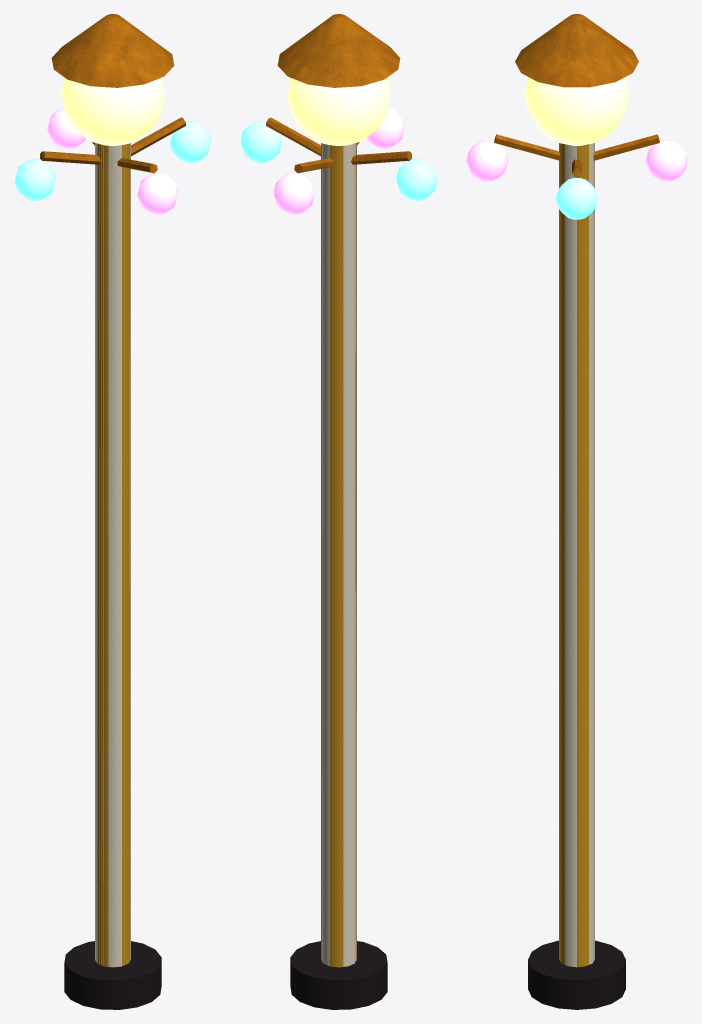
Rendered from fair-pole.glb.
The picture shows the model from 3 angles, left to right: view 1: azimuth 30°, elevation 25°; view 2: azimuth 150°, elevation 25°; view 3: azimuth 270°, elevation 25°; orthographic projection.
Visible parts, largest first — view 1: fair-pole; view 2: fair-pole; view 3: fair-pole.
Part boxes in pixels (left/top/right/bottom): fair-pole: left=14, top=14, right=211, bottom=1009; fair-pole: left=240, top=14, right=437, bottom=1009; fair-pole: left=466, top=14, right=687, bottom=1009.
Bounding box in the file's own units: 1.35 × 6.57 × 1.36.
6 materials, 2 textured.
